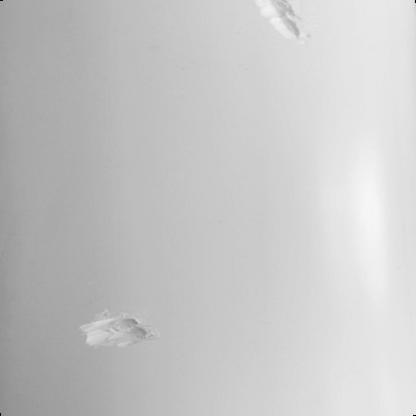sunshang: (79, 309, 158, 350), (258, 1, 313, 41)
